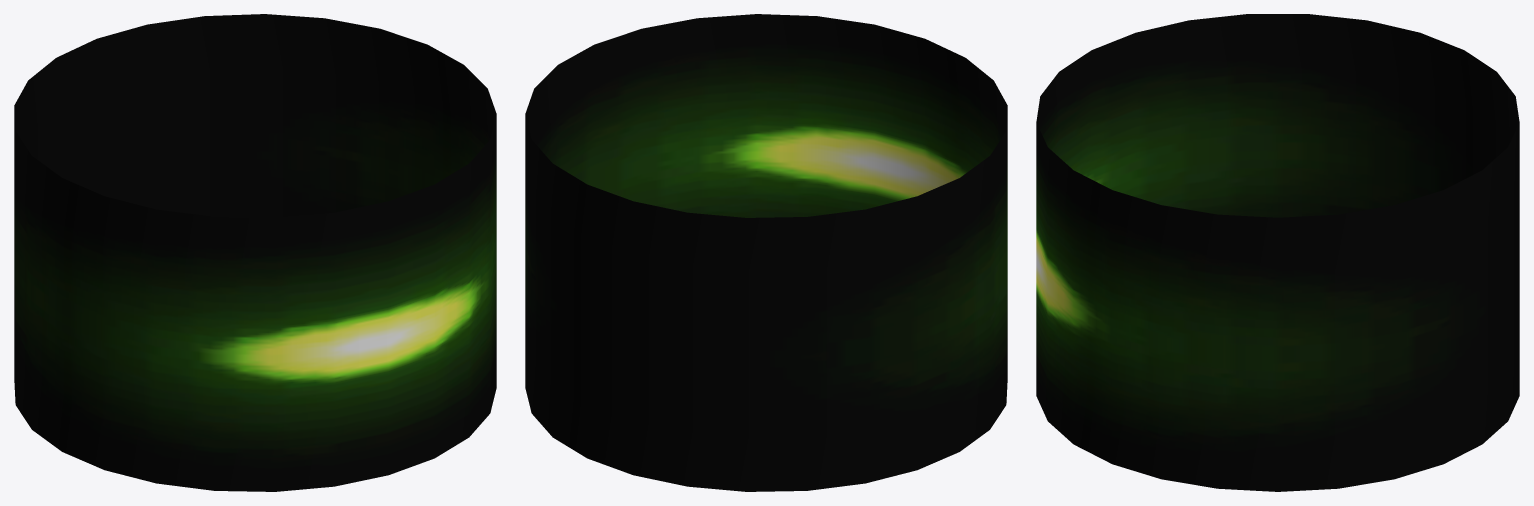
The model's file is 0500_yuanzhao_M_shuijun.glb.
3 views of the same model, side by side, from view 1: azimuth 30°, elevation 25°; view 2: azimuth 150°, elevation 25°; view 3: azimuth 270°, elevation 25° (orthographic).
Size of the model in its own units: 2.2 by 1.38 by 2.2.
Materials: 1 (1 with a texture image).
